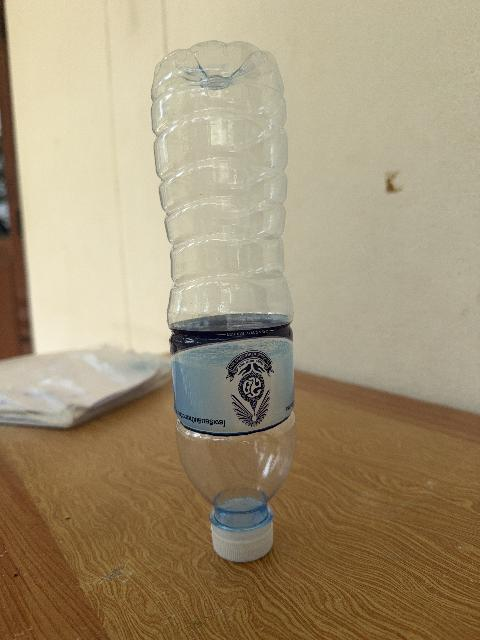bottle: (152, 42, 295, 561)
